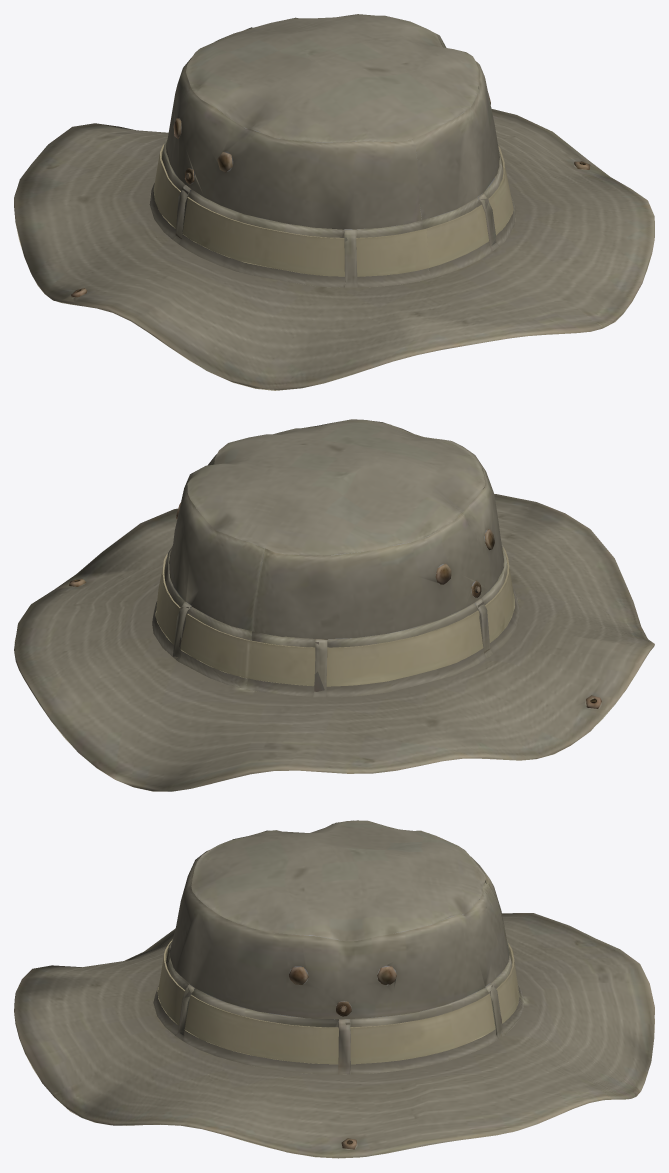
Rendered from fishermans_hat.glb.
3 views of the same model, one above another, from view 1: azimuth 30°, elevation 25°; view 2: azimuth 150°, elevation 25°; view 3: azimuth 270°, elevation 25° (orthographic). The views are drawn at different scales.
Visible parts, largest first — view 1: fishermans_hat; view 2: fishermans_hat; view 3: fishermans_hat.
Boxes of the visible parts, <box> form: fishermans_hat: <box>14,14,654,390</box>; fishermans_hat: <box>14,419,654,791</box>; fishermans_hat: <box>14,820,654,1158</box>.
Bounding box in the file's own units: 0.3236 × 0.1243 × 0.3498.
Materials: 1 (1 with a texture image).
